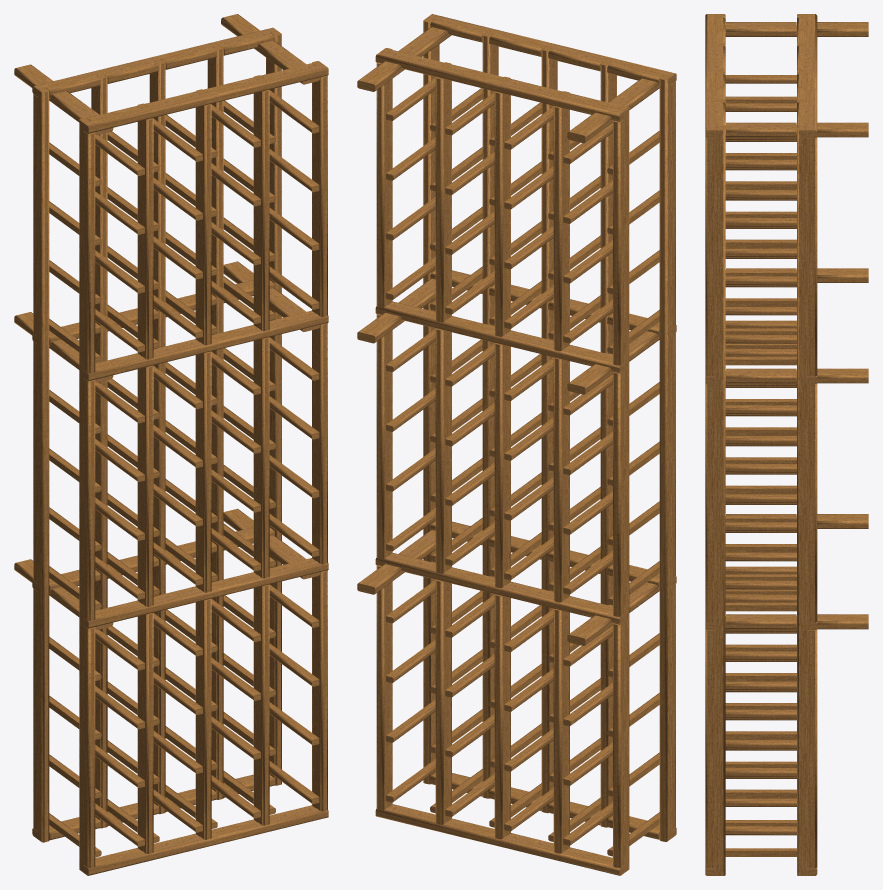
File: VCKB0020.glb
The picture shows the model from 3 angles, left to right: view 1: azimuth 30°, elevation 25°; view 2: azimuth 150°, elevation 25°; view 3: azimuth 270°, elevation 25°; orthographic projection. The views are drawn at different scales.
Visible parts, largest first — view 1: G-Difference.022; view 2: G-Difference.022; view 3: G-Difference.022.
Boxes of the visible parts, x1=… form: G-Difference.022: x1=14, y1=14, x2=328, y2=875; G-Difference.022: x1=357, y1=14, x2=676, y2=875; G-Difference.022: x1=705, y1=14, x2=868, y2=875.
Bounding box in the file's own units: 0.406 × 1.21 × 0.241.
Materials: 4 (4 with a texture image).
